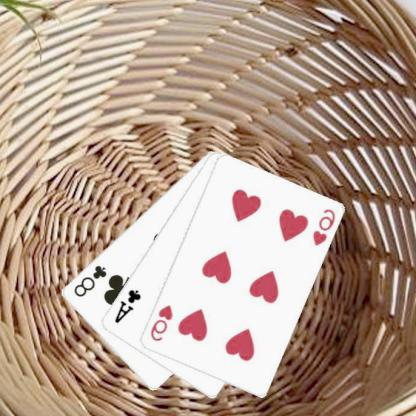6H: (149, 302, 176, 343), (311, 206, 338, 247)
8C: (72, 262, 110, 298)
AC: (113, 286, 144, 325)
